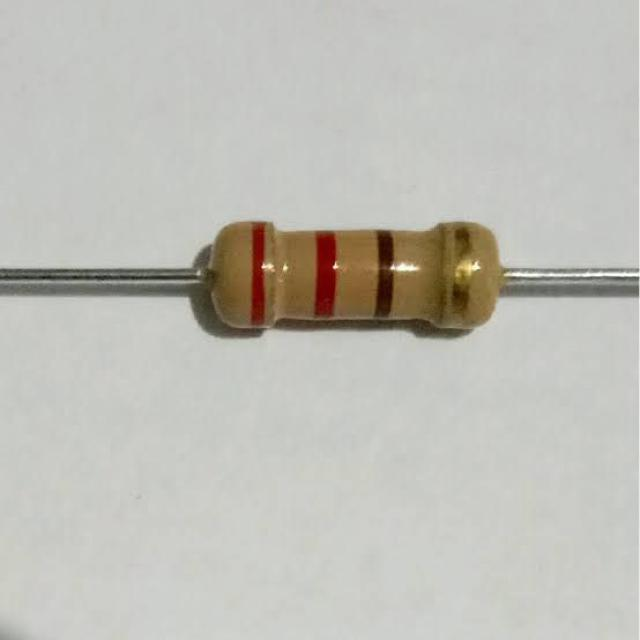Resistor: (209, 222, 503, 329)
brown: (375, 230, 392, 321)
gold: (456, 221, 469, 332)
red: (316, 230, 336, 321), (252, 224, 264, 327)
